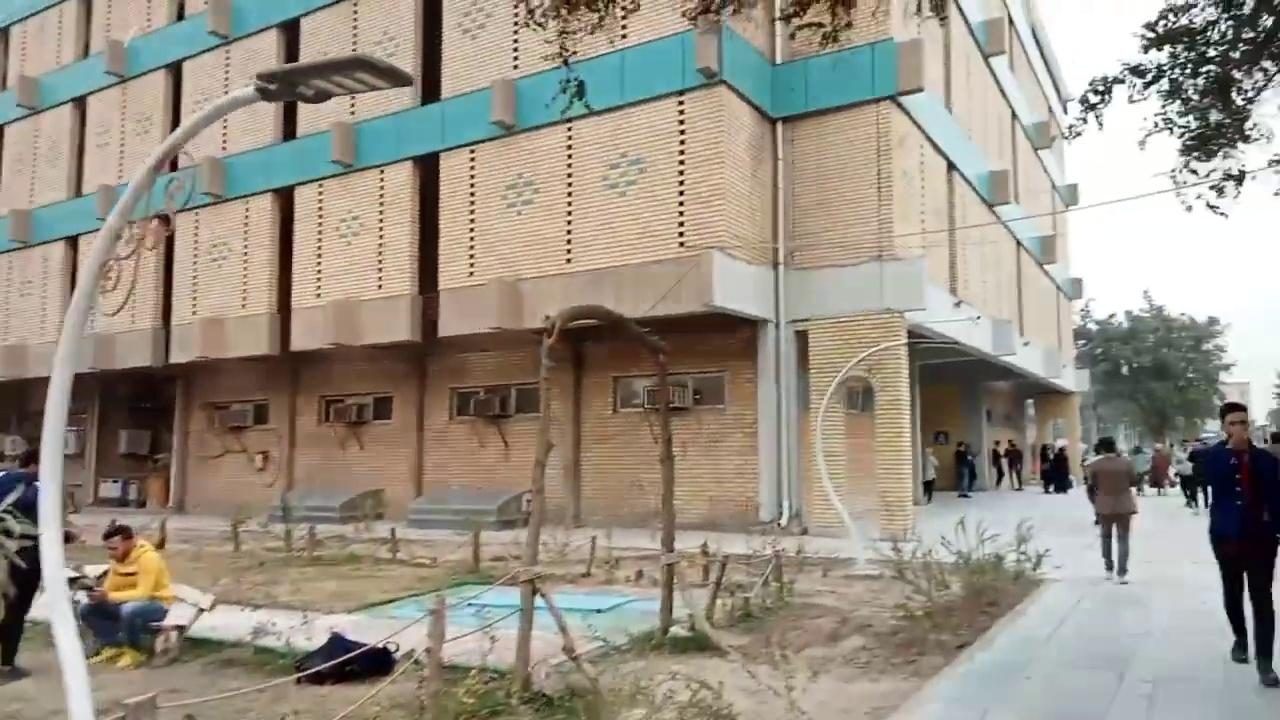person: (1201, 401, 1279, 687), (0, 447, 82, 674), (77, 521, 175, 661), (0, 446, 40, 674), (1086, 435, 1139, 584), (1003, 439, 1024, 490), (954, 440, 972, 498), (921, 447, 939, 504), (963, 442, 978, 492), (991, 439, 1004, 488)
tree: (1057, 0, 1279, 219), (1072, 287, 1237, 452), (513, 0, 641, 120)
